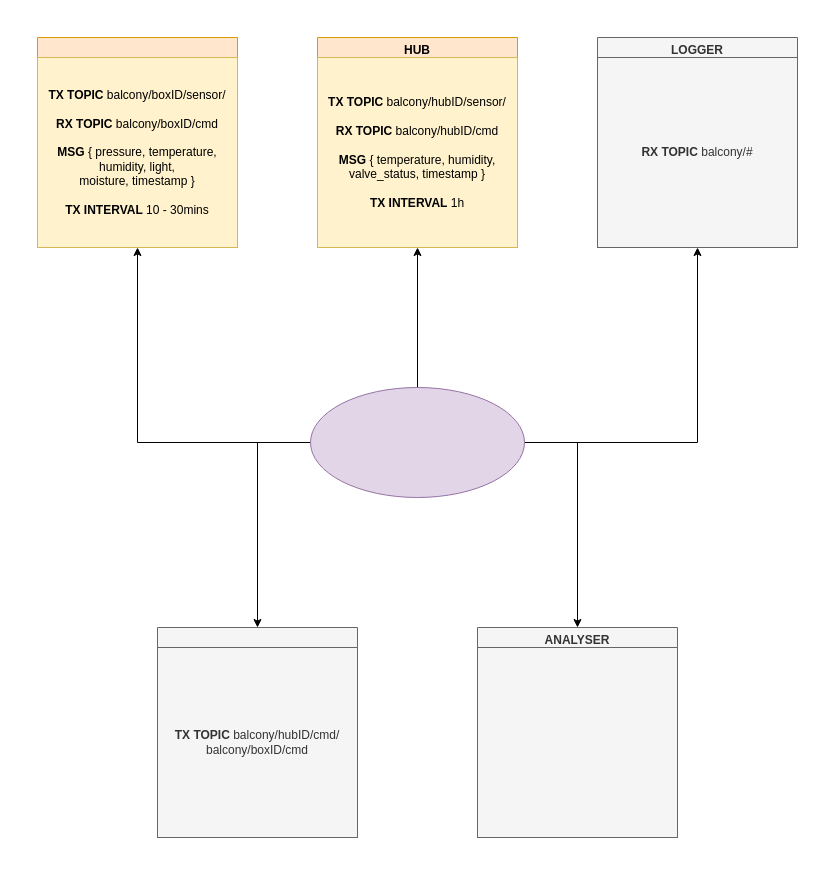
Some shapes in this 834 by 874 pixel diagram are drawn without their labels. The box of each missing label's shape, as (x1, y1, x2, y2) in pixels:
Broker: (310, 386, 524, 498)
DASHBOARD: (156, 626, 358, 838)
SENSOR BOX: (36, 36, 238, 248)
TX TOPIC balcony/hubID/cmd/ TX INTERVAL once a day: (476, 646, 678, 838)
